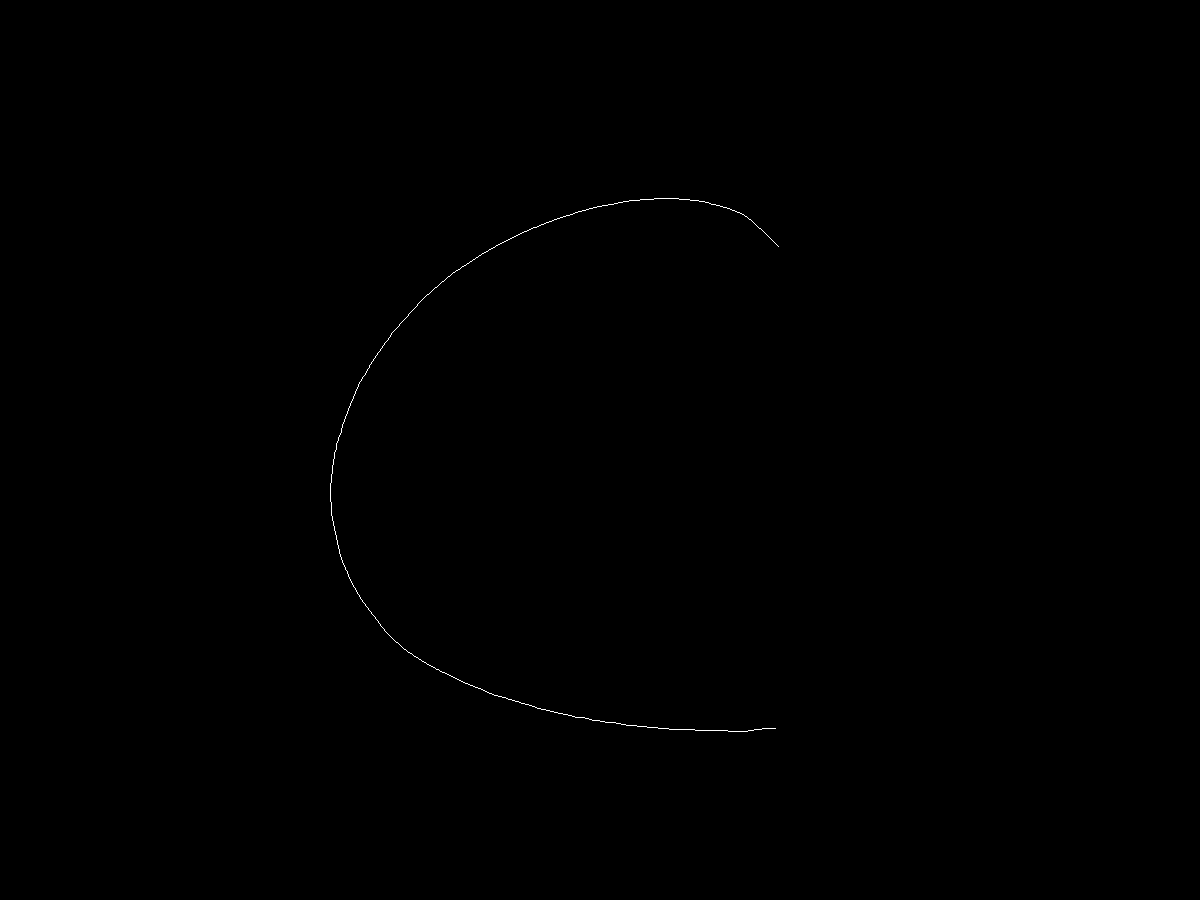dian1: (763, 240, 788, 262)
dian2: (767, 718, 787, 740)
